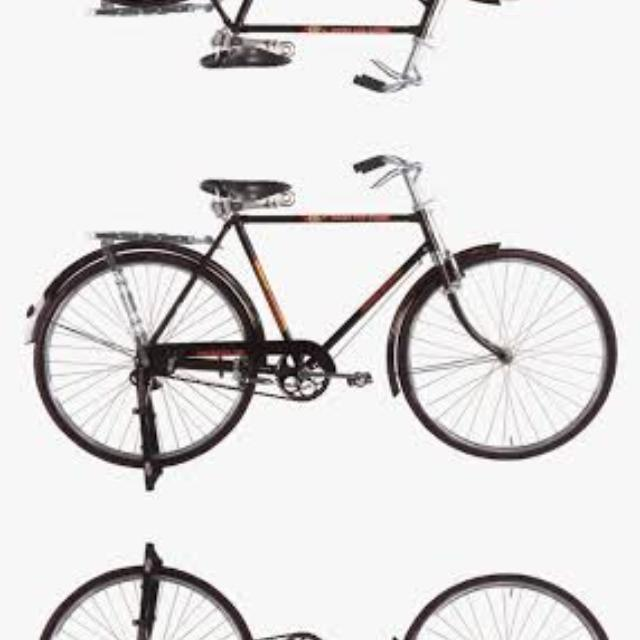obstacle: (12, 142, 628, 484), (12, 0, 627, 103), (12, 550, 627, 640)
